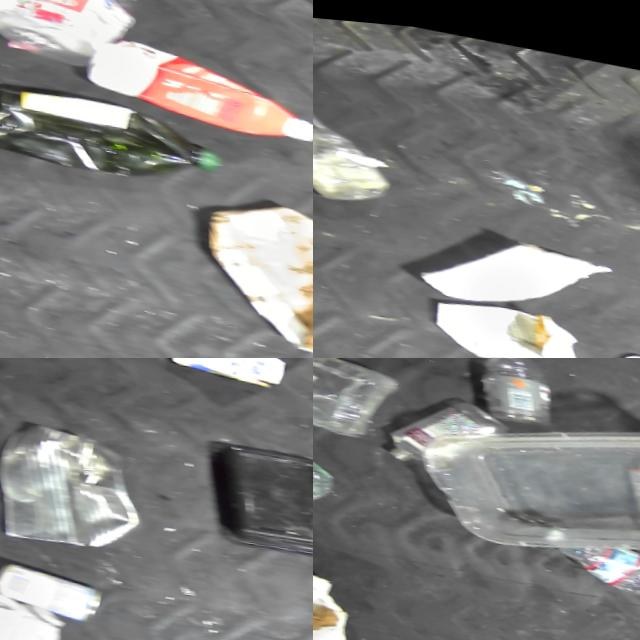can: (0, 554, 105, 622)
non_white_jug: (78, 24, 313, 138), (0, 73, 221, 186)
plastic_bottle: (372, 380, 508, 475), (0, 0, 163, 72), (541, 526, 640, 605), (465, 358, 555, 423)
